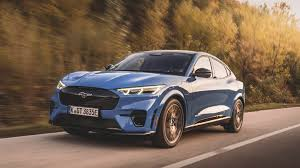car: (47, 48, 248, 149)
